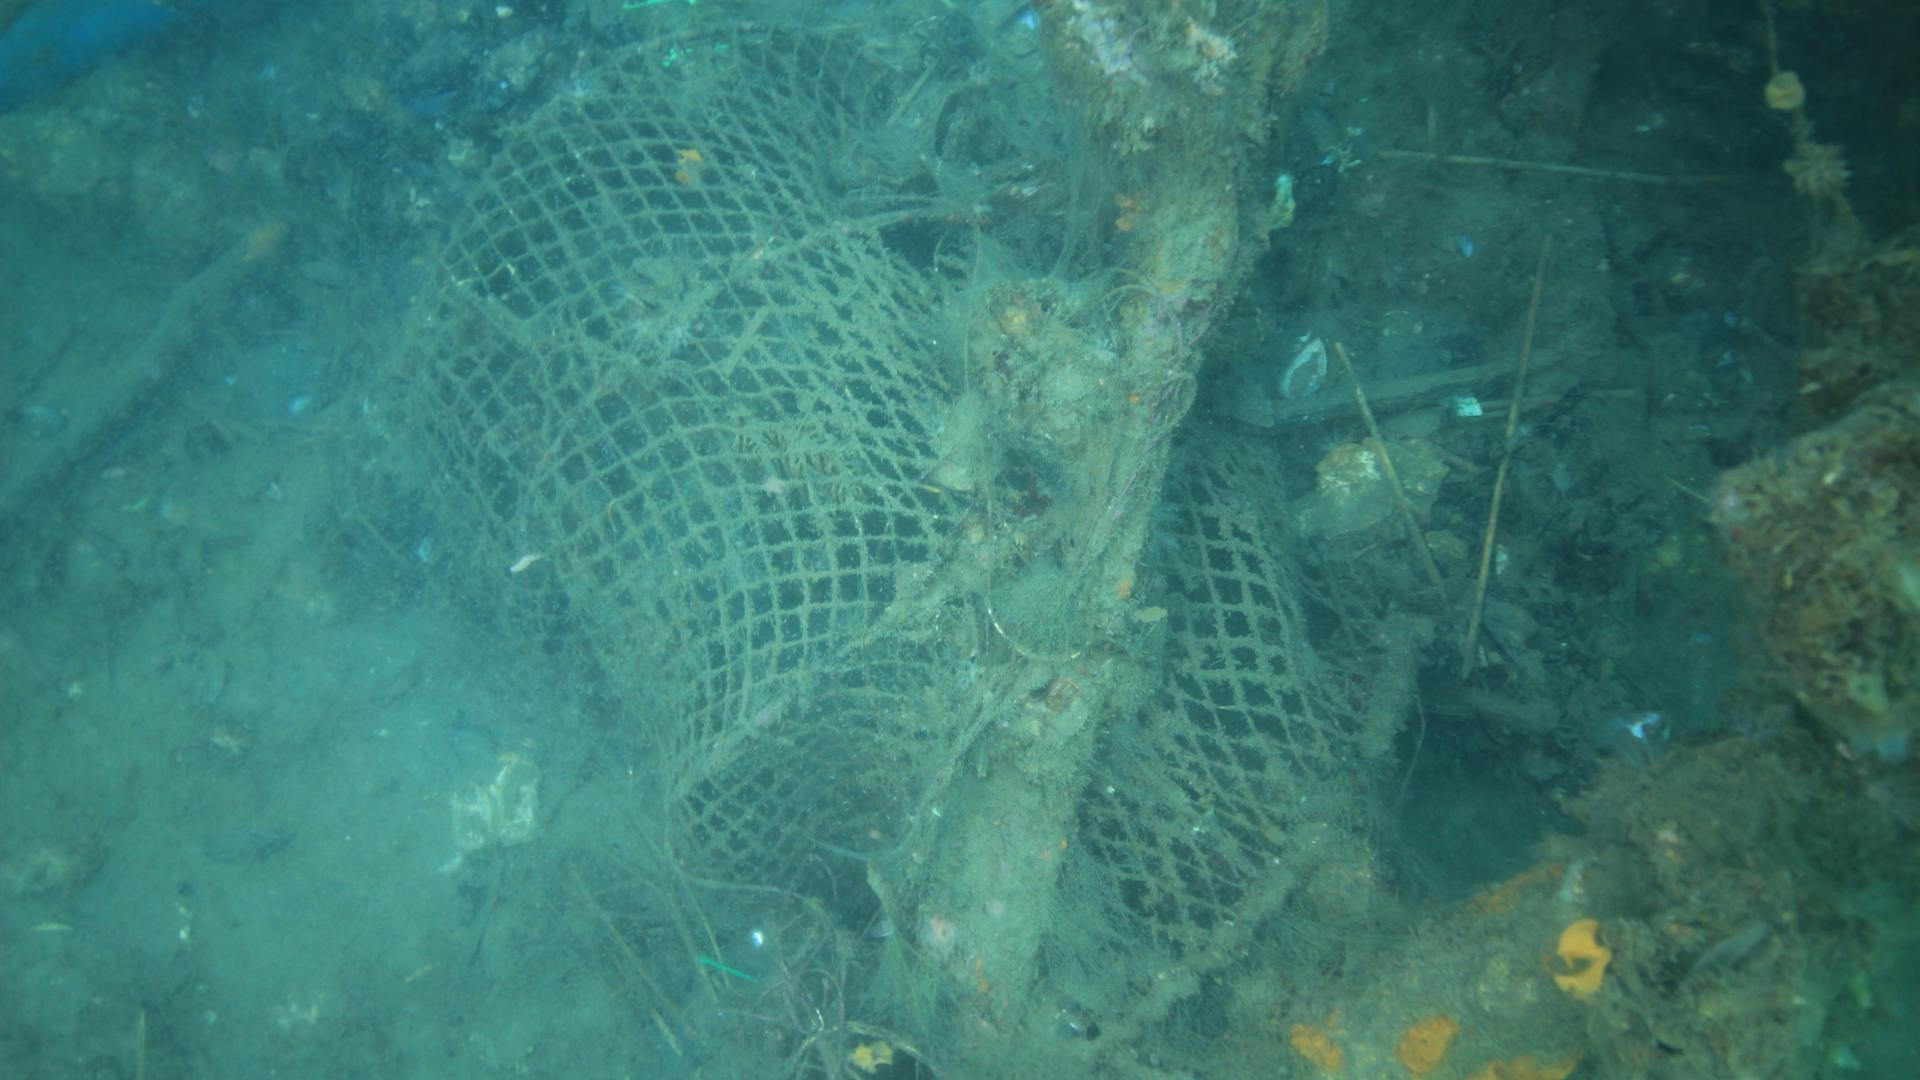spring fish trap: (382, 22, 1423, 1079)
